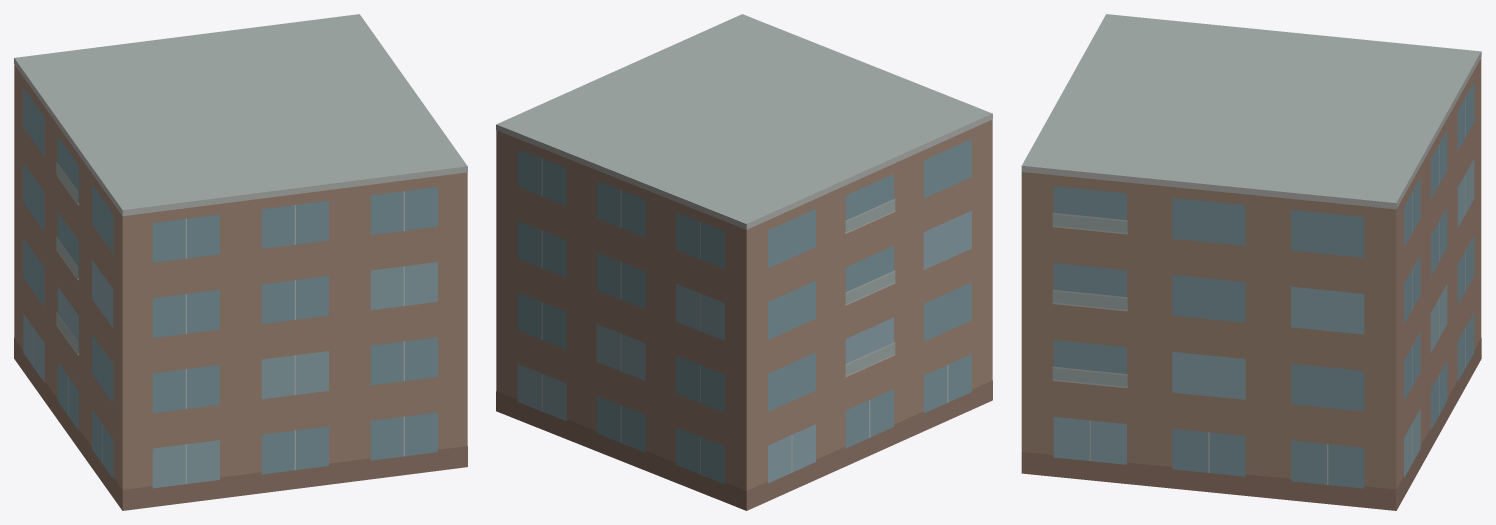
File: residential-3e10a323-0720-435a-817e-bdb7bc2db776.glb
The picture shows the model from 3 angles, left to right: view 1: azimuth 30°, elevation 25°; view 2: azimuth 150°, elevation 25°; view 3: azimuth 270°, elevation 25°; orthographic projection. The views are drawn at different scales.
Parts seen in each view (by area): view 1: residential-3e10a323-0720-435a-817e-bdb7bc2db776.tmp; view 2: residential-3e10a323-0720-435a-817e-bdb7bc2db776.tmp; view 3: residential-3e10a323-0720-435a-817e-bdb7bc2db776.tmp.
Boxes of the visible parts, left/top/right/bottom form: residential-3e10a323-0720-435a-817e-bdb7bc2db776.tmp: left=14, top=14, right=467, bottom=510; residential-3e10a323-0720-435a-817e-bdb7bc2db776.tmp: left=496, top=14, right=992, bottom=510; residential-3e10a323-0720-435a-817e-bdb7bc2db776.tmp: left=1021, top=14, right=1481, bottom=510.
Size of the model in its own units: 16.1 by 12.2 by 16.53.
